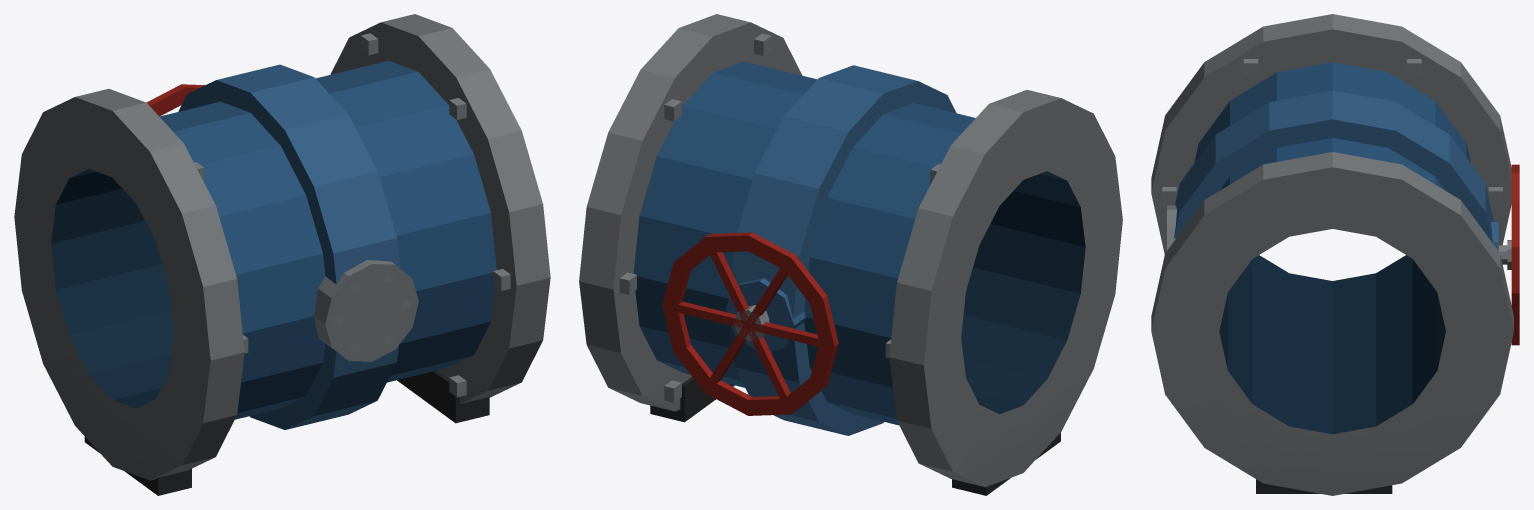
File: pipe.valve.blue.glb
3 renders of one model, left to right at view 1: azimuth 30°, elevation 25°; view 2: azimuth 150°, elevation 25°; view 3: azimuth 270°, elevation 25°, orthographic. The views are drawn at different scales.
Parts seen in each view (by area): view 1: pipe_valve_blue; view 2: pipe_valve_blue; view 3: pipe_valve_blue.
Part boxes in pixels (x1=…): pipe_valve_blue: x1=14, y1=14, x2=550, y2=495; pipe_valve_blue: x1=579, y1=14, x2=1122, y2=495; pipe_valve_blue: x1=1151, y1=14, x2=1519, y2=495.
Size of what is drawn, in the model's own units: 1.6 by 1.6 by 1.62.
